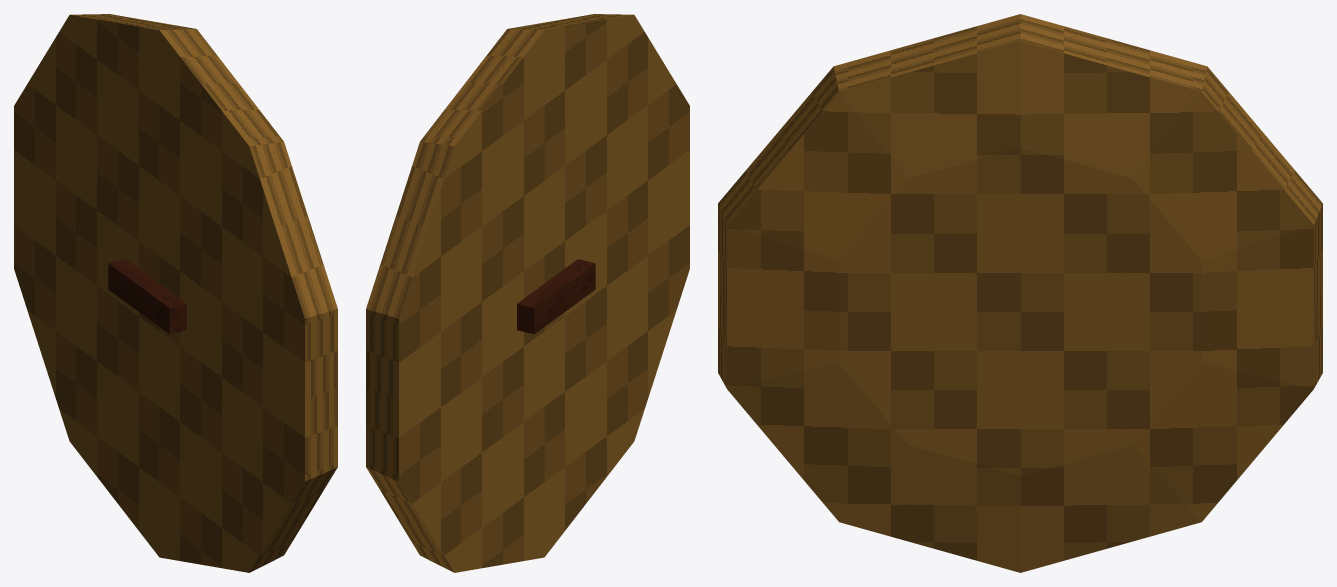
File: mimbre.glb
3 renders of one model, left to right at view 1: azimuth 30°, elevation 25°; view 2: azimuth 150°, elevation 25°; view 3: azimuth 270°, elevation 25°, orthographic. The views are drawn at different scales.
Parts seen in each view (by area): view 1: tablero, asa; view 2: tablero, asa; view 3: tablero.
Part boxes in pixels (<box>): tablero: <box>14,14,337,572</box>; asa: <box>108,259,186,334</box>; tablero: <box>366,14,689,572</box>; asa: <box>517,259,595,334</box>; tablero: <box>718,14,1322,572</box>.
Bounding box in the file's own units: 0.08 × 0.6 × 0.6.
1 material, 1 textured.
